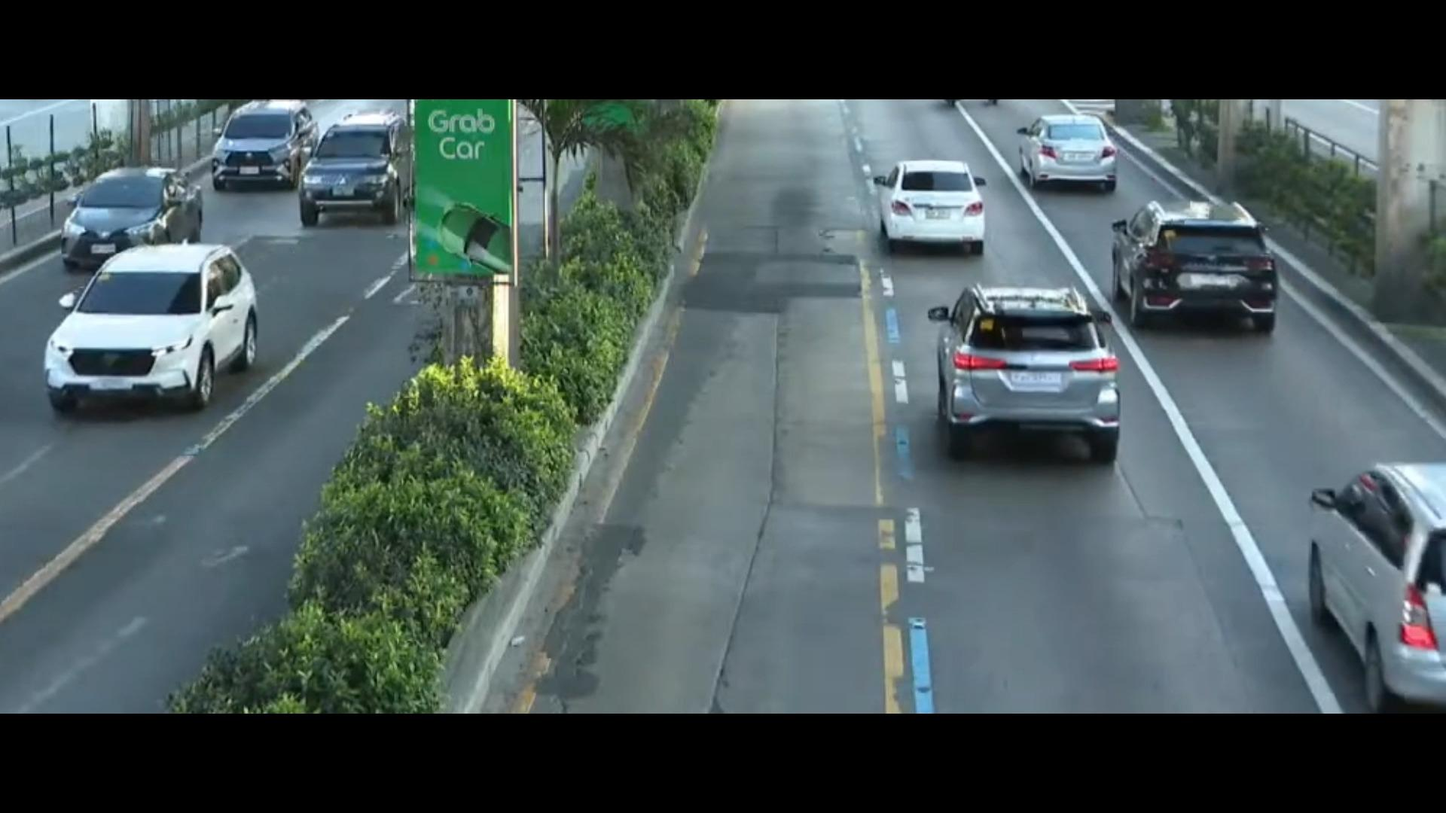SUV: (1278, 399, 1446, 699), (41, 224, 274, 420), (921, 279, 1145, 458), (1082, 177, 1273, 352), (277, 107, 407, 246), (214, 86, 317, 204)
Sedan: (47, 146, 214, 272), (865, 144, 1005, 272), (995, 111, 1130, 212)
